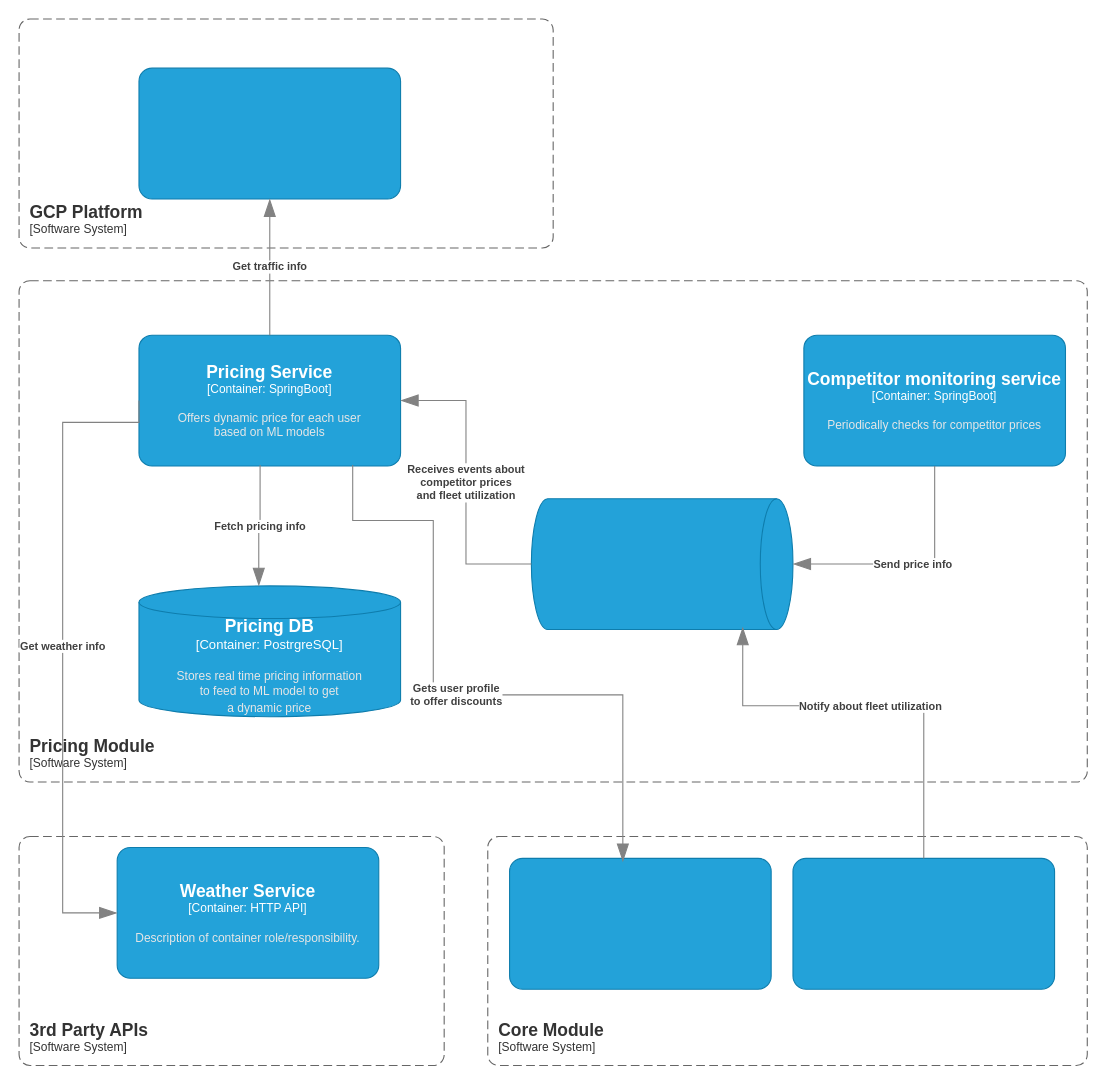
This 1106x1085 diagram has some shape labels left out. Here are the shapes that lost their labels. From the top down, the centre of each, then its label:
pixel 269 133: Google Maps [Container: GCP Component] Provides traffic info
pixel 661 563: Event Backbone [Container: Apache Kafka] Sends events that affect prices
pixel 639 923: User Service [Container: SpringBoot] Keeps track of user behavior
pixel 923 923: Fleet Service [Container: SpringBoot] Keeps track of all booked vehicles
